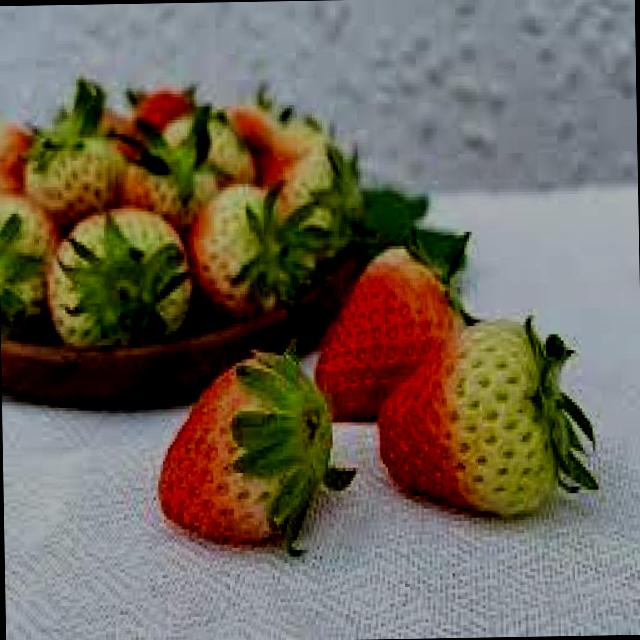Strawberry: (378, 319, 560, 514), (156, 354, 322, 546), (314, 245, 456, 419), (52, 204, 188, 351), (187, 179, 312, 321), (24, 124, 118, 218), (118, 144, 225, 220)
